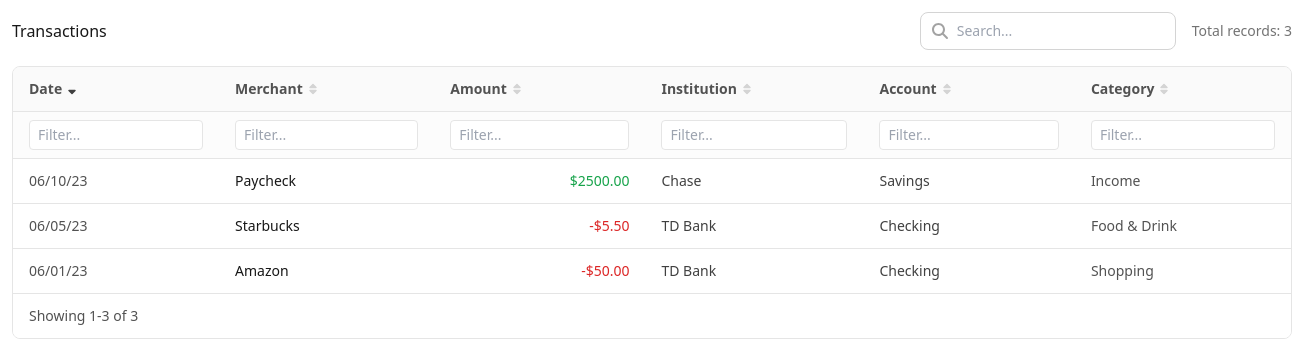
MasterDataTable › Global Search › should filter by category
Type "Shopping" into the field with placeholder "Search...". click: (1048, 31)
box: [920, 12, 1176, 50]
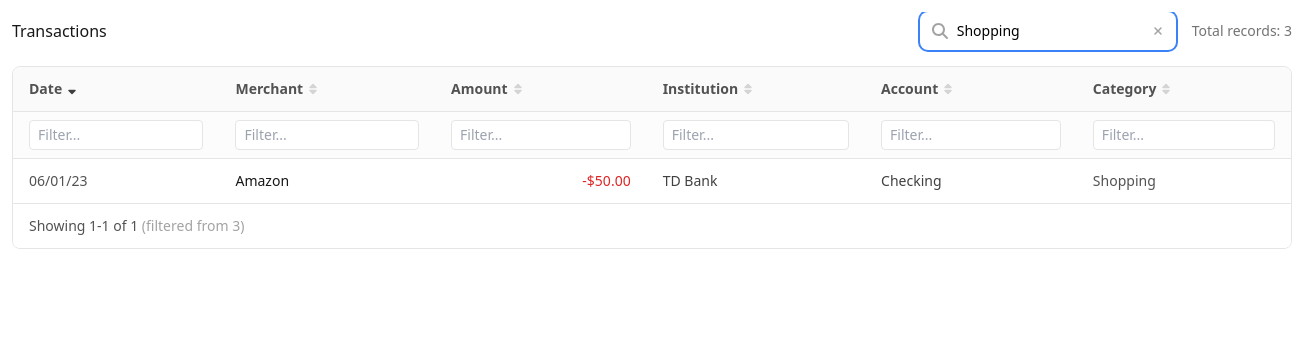
Expected: the text "Amazon" is shown, [220, 158, 435, 203]
Now the text "Starbucks" is gone
